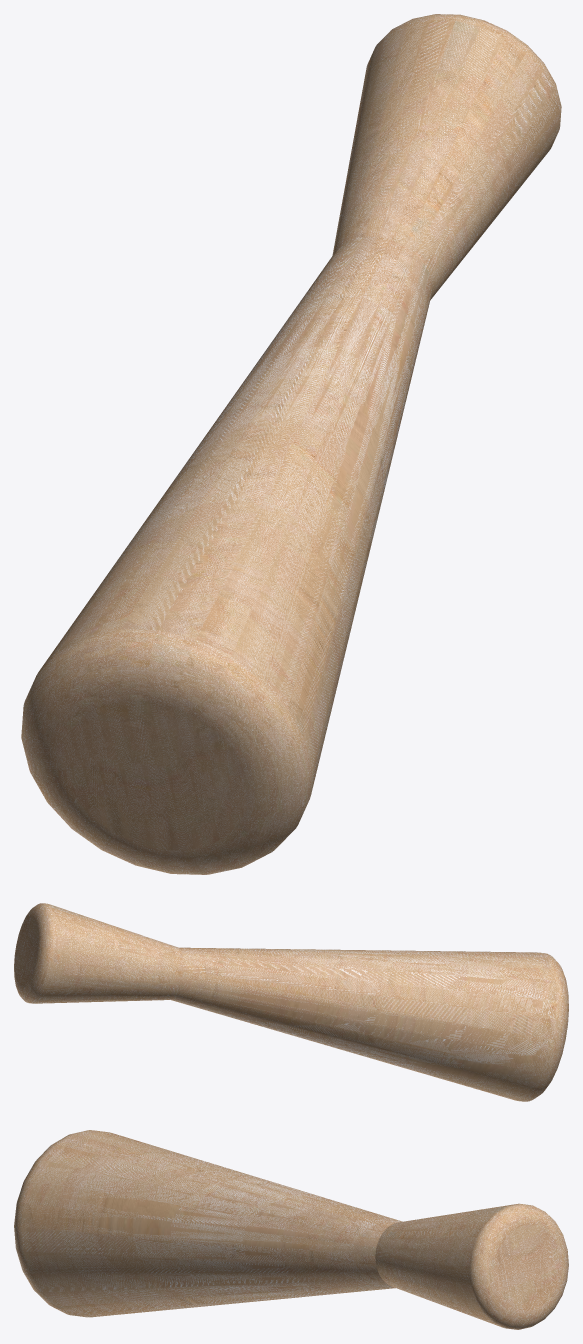
Rendered from original-2.obj.
3 views of the same model, one above another, from view 1: azimuth 30°, elevation 25°; view 2: azimuth 150°, elevation 25°; view 3: azimuth 270°, elevation 25° (orthographic). The views are drawn at different scales.
Parts seen in each view (by area): view 1: group_2/group_3/ID7#ID7; view 2: group_2/group_3/ID7#ID7; view 3: group_2/group_3/ID7#ID7.
Part boxes in pixels (x1,y1,x2,y2): group_2/group_3/ID7#ID7: [21, 14, 561, 874]; group_2/group_3/ID7#ID7: [14, 903, 568, 1101]; group_2/group_3/ID7#ID7: [14, 1130, 568, 1329].
Bounding box in the file's own units: 0.4572 × 0.252 × 0.4371.
Materials: 2 (1 with a texture image).
